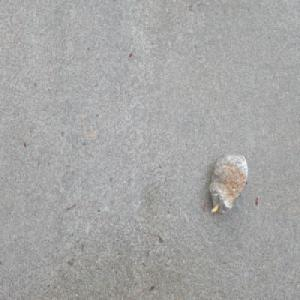Rock: (207, 149, 248, 214)
